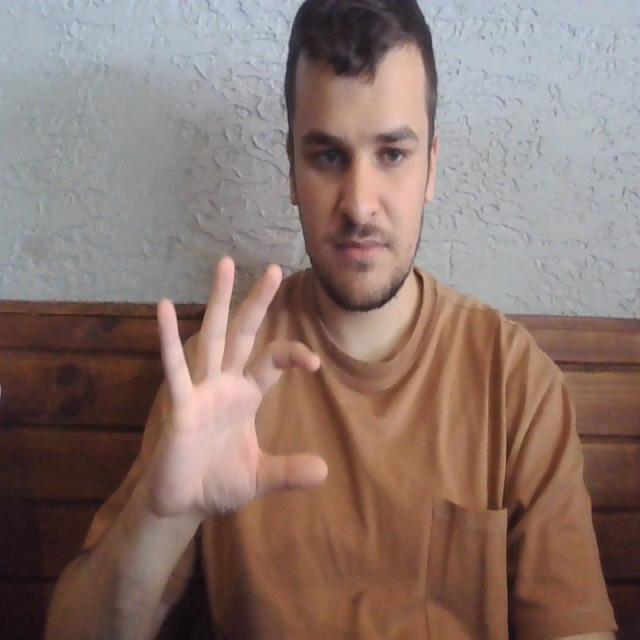Tuvalet: (134, 244, 335, 529)
